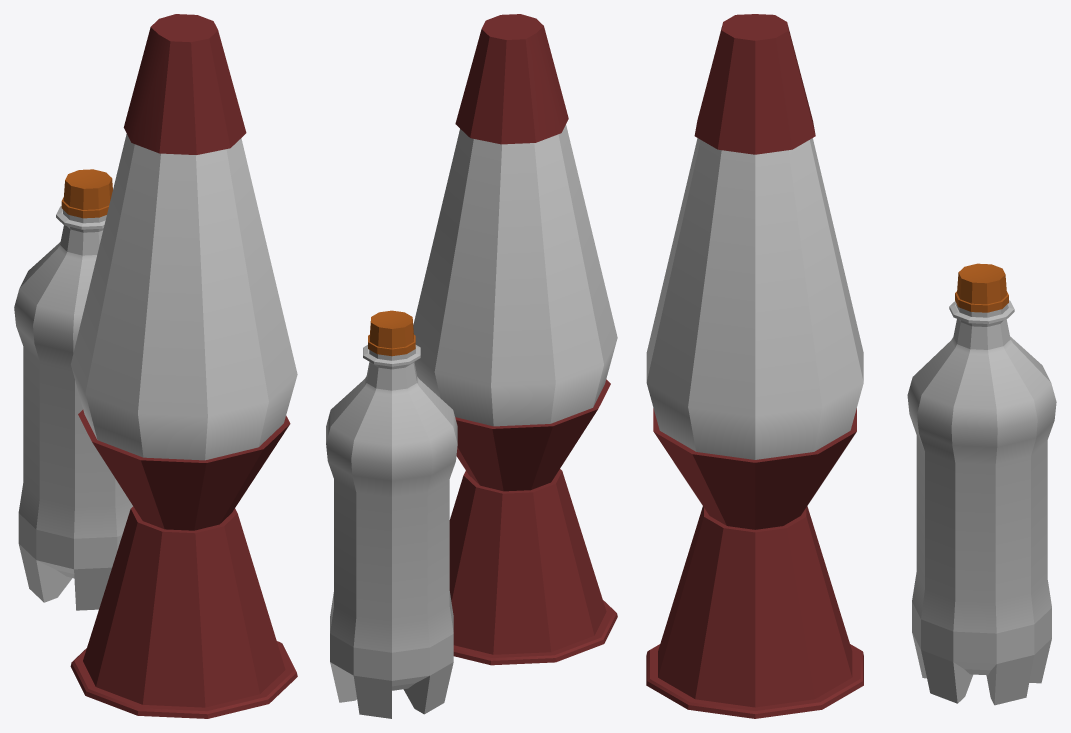
File: Botella.fbx
3 views of the same model, side by side, from view 1: azimuth 30°, elevation 25°; view 2: azimuth 150°, elevation 25°; view 3: azimuth 270°, elevation 25° (orthographic). The views are drawn at different scales.
Visible parts, largest first — view 1: LamparaLava_Geo, Botella_Geo; view 2: LamparaLava_Geo, Botella_Geo; view 3: LamparaLava_Geo, Botella_Geo.
Boxes of the visible parts, box(x1,y1,x2,y2) form: LamparaLava_Geo: box(70, 14, 297, 718); Botella_Geo: box(14, 169, 132, 610); LamparaLava_Geo: box(413, 14, 617, 665); Botella_Geo: box(326, 310, 457, 718); LamparaLava_Geo: box(646, 14, 863, 718); Botella_Geo: box(907, 263, 1056, 705).
Bounding box in the file's own units: 2.92 × 9.1 × 5.24.
